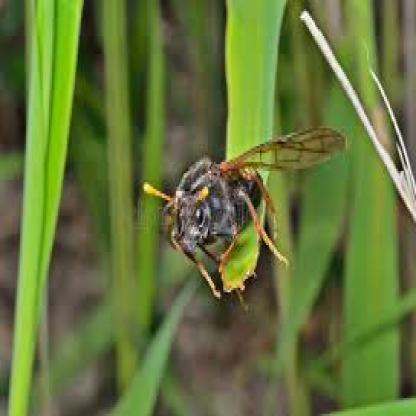sawfly: (146, 116, 350, 304)
